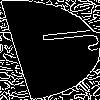J: (25, 25, 100, 58)
